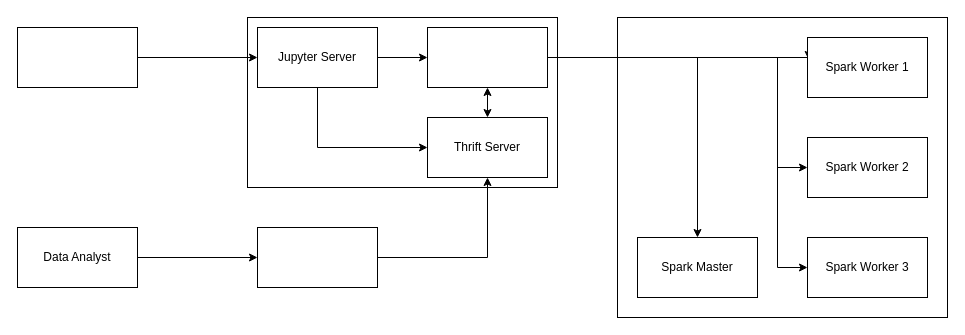
Some shapes in this 965 by 335 pixel diagram are drawn without their labels. The shapes that lost their labels are listed below. From the top down, each one's centre as x and y in pixels, then its label:
At (x=77, y=57): "Data Engineer".
At (x=487, y=57): "Spark Driver".
At (x=317, y=257): "Super Set".
